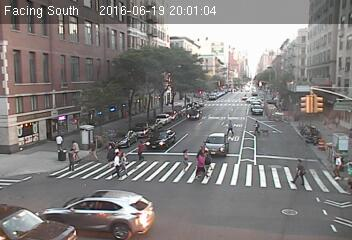neg: (14, 170, 34, 197), (104, 188, 124, 214), (168, 35, 187, 61), (176, 100, 194, 124), (277, 195, 294, 217), (305, 120, 321, 142), (216, 188, 232, 210), (146, 194, 162, 216), (47, 173, 63, 195), (63, 36, 79, 58), (215, 78, 231, 99), (313, 45, 328, 66), (260, 157, 275, 177), (214, 39, 229, 59), (11, 129, 26, 149), (50, 85, 64, 105), (89, 76, 103, 95), (123, 44, 137, 63), (299, 90, 313, 107), (272, 34, 286, 51), (252, 85, 265, 102)
pos: (289, 157, 311, 186), (189, 149, 211, 178), (324, 152, 345, 181), (108, 152, 127, 177), (177, 147, 195, 171), (249, 118, 264, 138), (134, 139, 149, 159), (225, 117, 239, 136), (66, 150, 80, 168), (53, 132, 66, 150), (70, 139, 81, 154)
